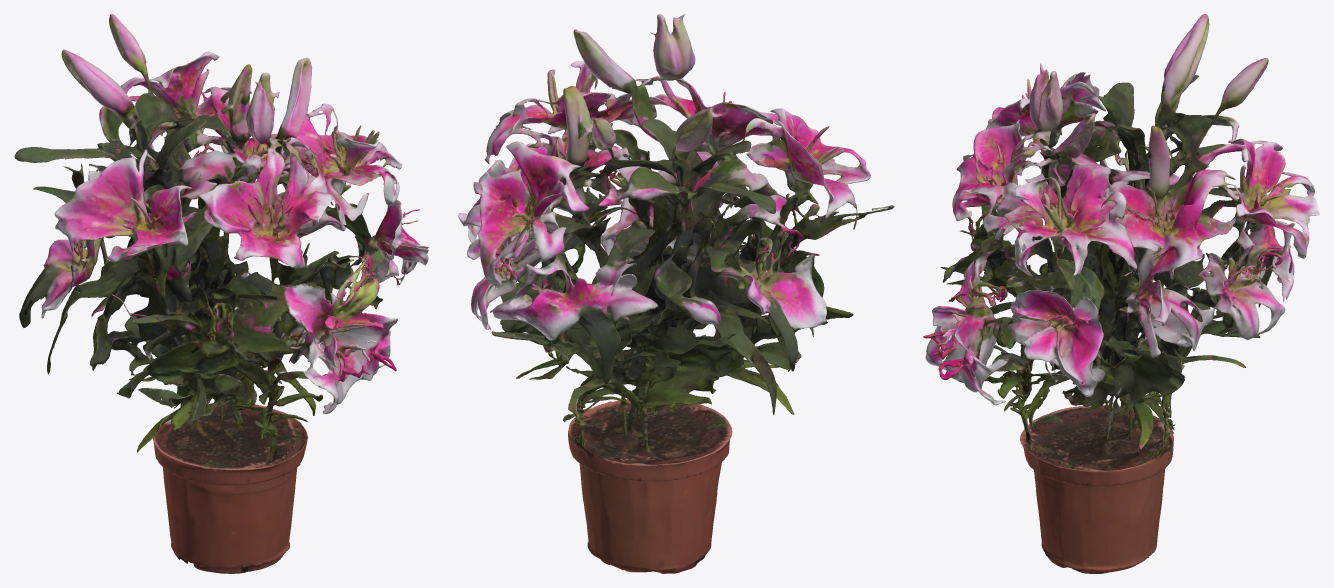
Rendered from LiliumRoyal3dModel.glb.
3 views of the same model, side by side, from view 1: azimuth 30°, elevation 25°; view 2: azimuth 150°, elevation 25°; view 3: azimuth 270°, elevation 25° (orthographic). The views are drawn at different scales.
Bounding box in the file's own units: 1.54 × 1.99 × 1.47.
Materials: 1 (1 with a texture image).
